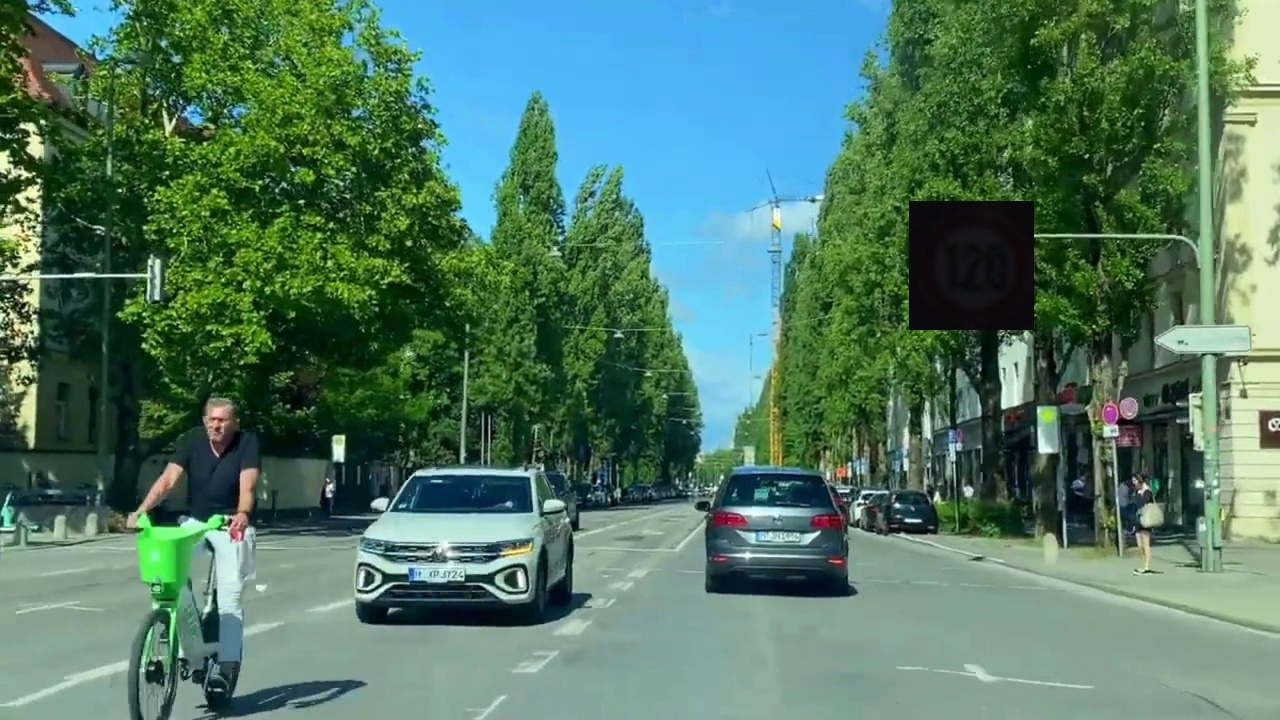Speed 120: (909, 201, 1034, 330)
